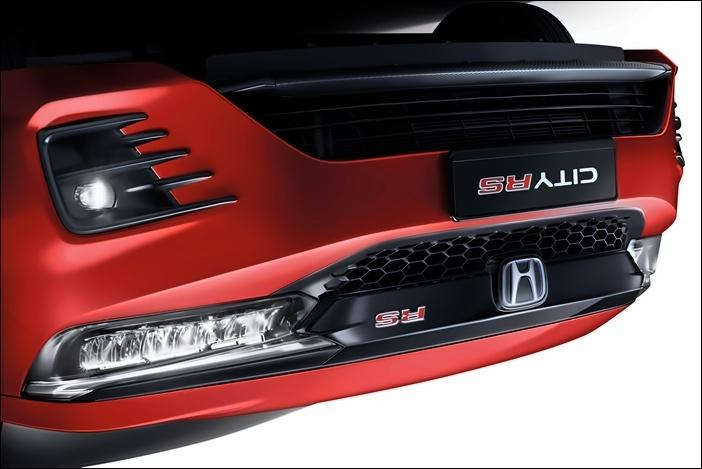Car hood: (0, 306, 629, 469)
Front bumper: (0, 30, 686, 395)
Headlight - -L-: (16, 295, 340, 401)
Headlight - -R-: (625, 232, 660, 282)
